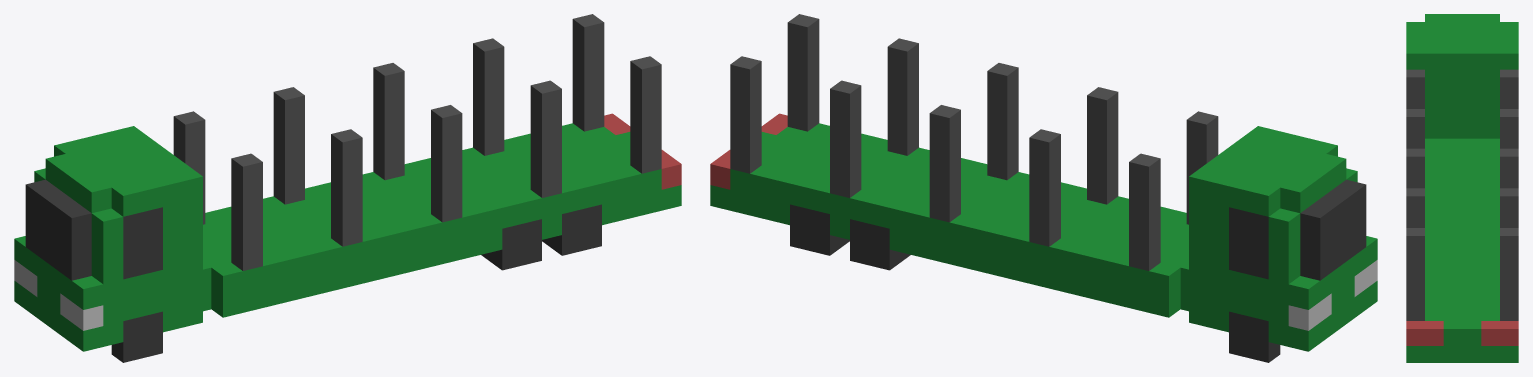
Rendered from truck-v5-green.gltf.
The picture shows the model from 3 angles, left to right: view 1: azimuth 30°, elevation 25°; view 2: azimuth 150°, elevation 25°; view 3: azimuth 270°, elevation 25°; orthographic projection. The views are drawn at different scales.
Parts seen in each view (by area): view 1: model, wheels; view 2: model, wheels; view 3: model.
Boxes of the visible parts, x1,y1,x2,y2 form: model: [14, 14, 681, 351]; wheels: [111, 204, 601, 362]; model: [710, 14, 1377, 351]; wheels: [790, 204, 1280, 362]; model: [1406, 14, 1518, 362].
Bounding box in the file's own units: 3 × 0.8 × 0.6.
2 materials, 2 textured.
